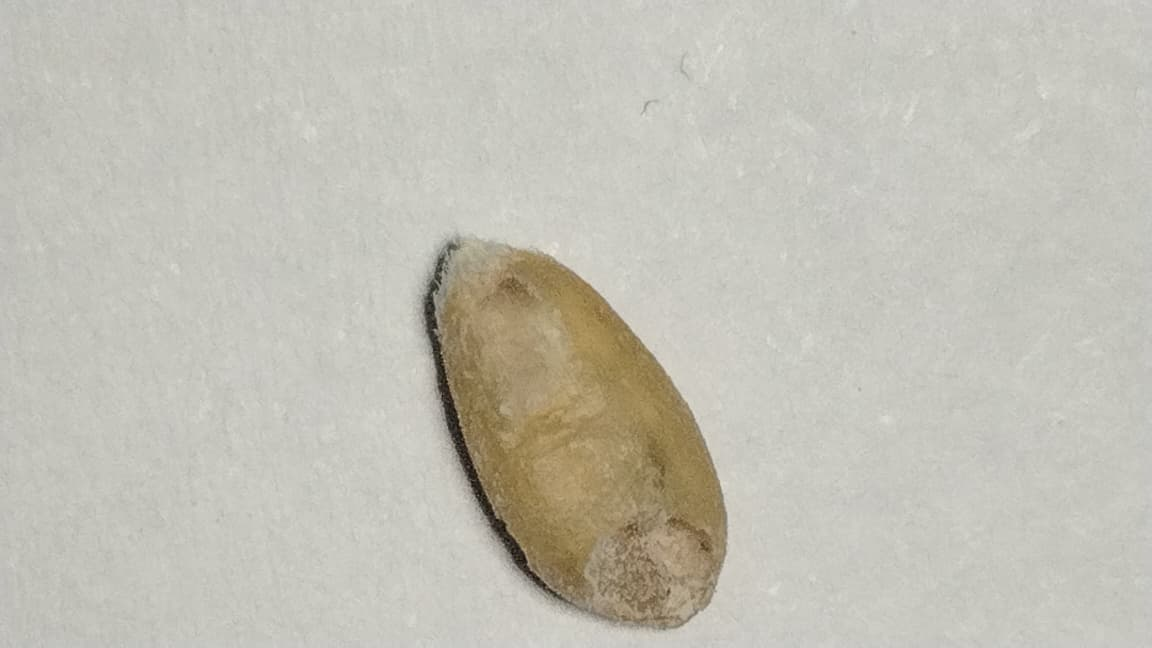damage: (434, 239, 725, 625)
insectdamage: (547, 430, 725, 627)
